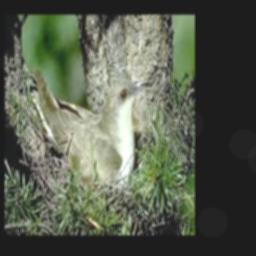Cuckoo: (36, 68, 154, 188)
